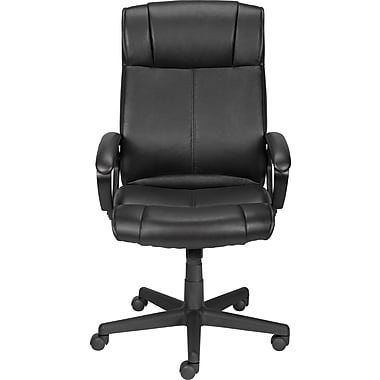chairs: (89, 2, 299, 380)
